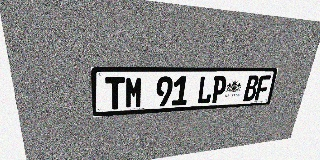1: (172, 76, 189, 106)
9: (155, 76, 173, 107)
B: (243, 75, 260, 101)
F: (254, 75, 271, 100)
L: (196, 76, 214, 104)
M: (125, 76, 143, 109)
P: (210, 76, 228, 103)
T: (105, 77, 124, 110)
